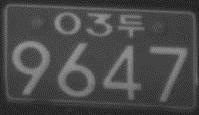0: (53, 11, 81, 36)
3: (85, 11, 112, 37)
4: (101, 44, 142, 101)
6: (56, 41, 95, 98)
7: (148, 45, 188, 103)
9: (10, 40, 50, 95)
두: (118, 13, 145, 38)
